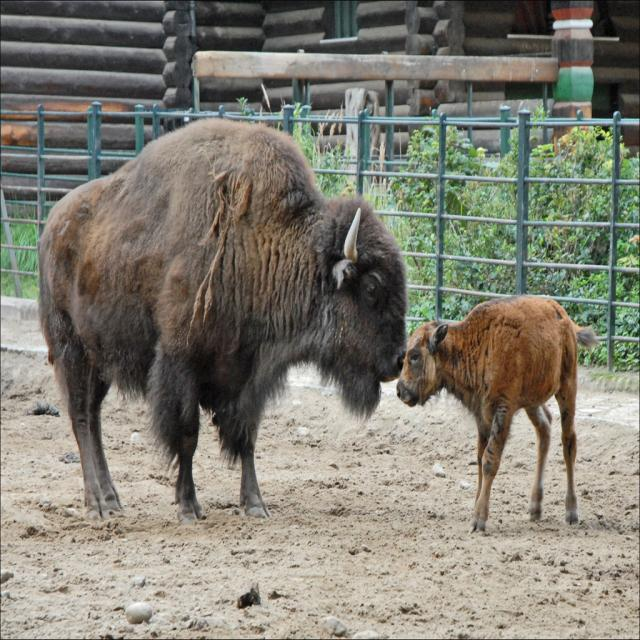Cattle: (37, 117, 408, 525), (396, 296, 599, 535)
